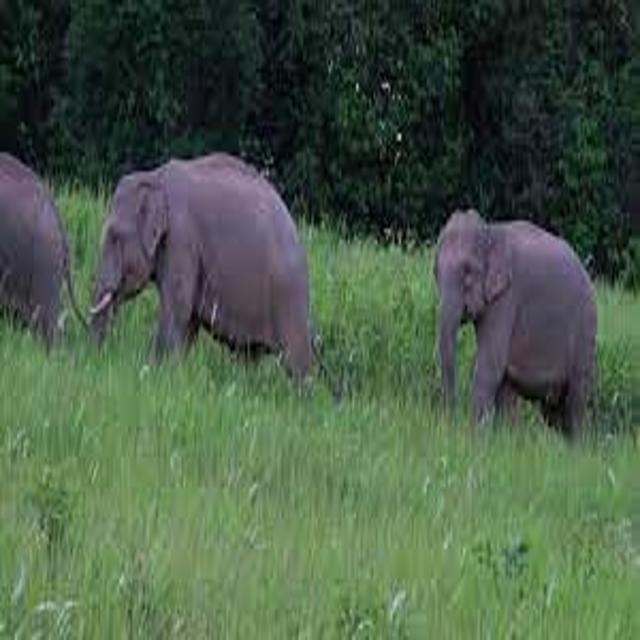elephant: (37, 112, 367, 444), (371, 163, 640, 491)
